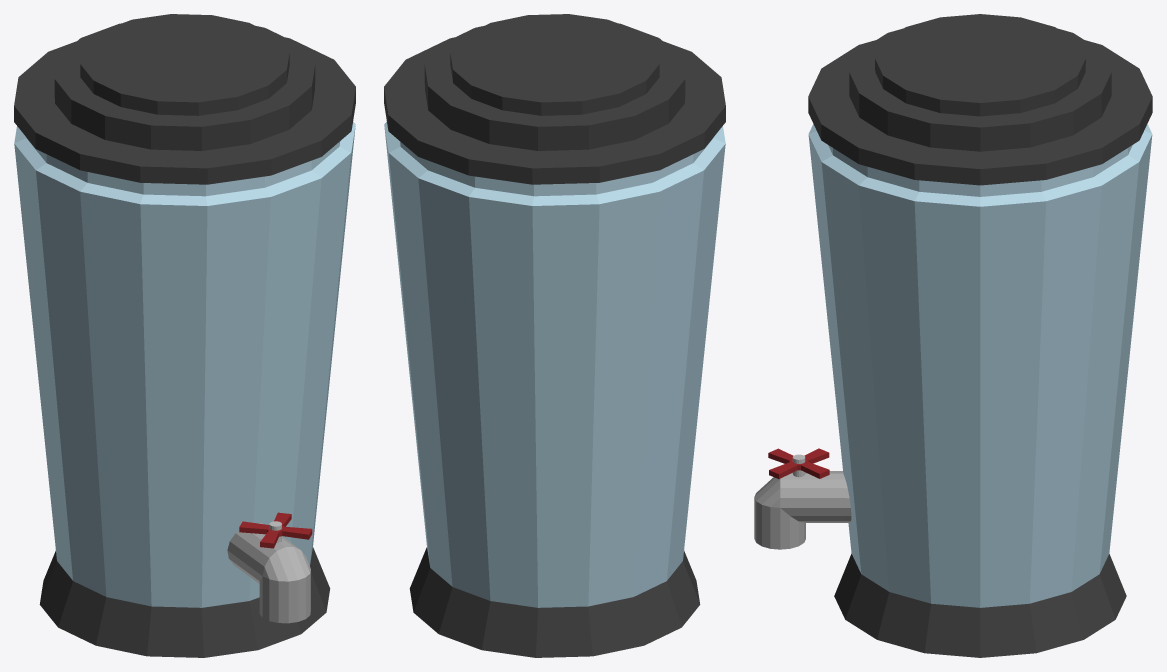
Rendered from juicer.fbx.
3 views of the same model, side by side, from view 1: azimuth 30°, elevation 25°; view 2: azimuth 150°, elevation 25°; view 3: azimuth 270°, elevation 25° (orthographic).
Visible parts, largest first — view 1: body, faucet, handle; view 2: body; view 3: body, faucet, handle.
Part boxes in pixels (x1,y1,x2,y2): body: (14, 14, 355, 657); faucet: (227, 523, 310, 623); handle: (239, 512, 312, 548); body: (384, 14, 725, 657); body: (808, 14, 1152, 657); faucet: (754, 471, 851, 549); handle: (768, 448, 829, 478).
Bounding box in the file's own units: 270 × 465 × 312.
